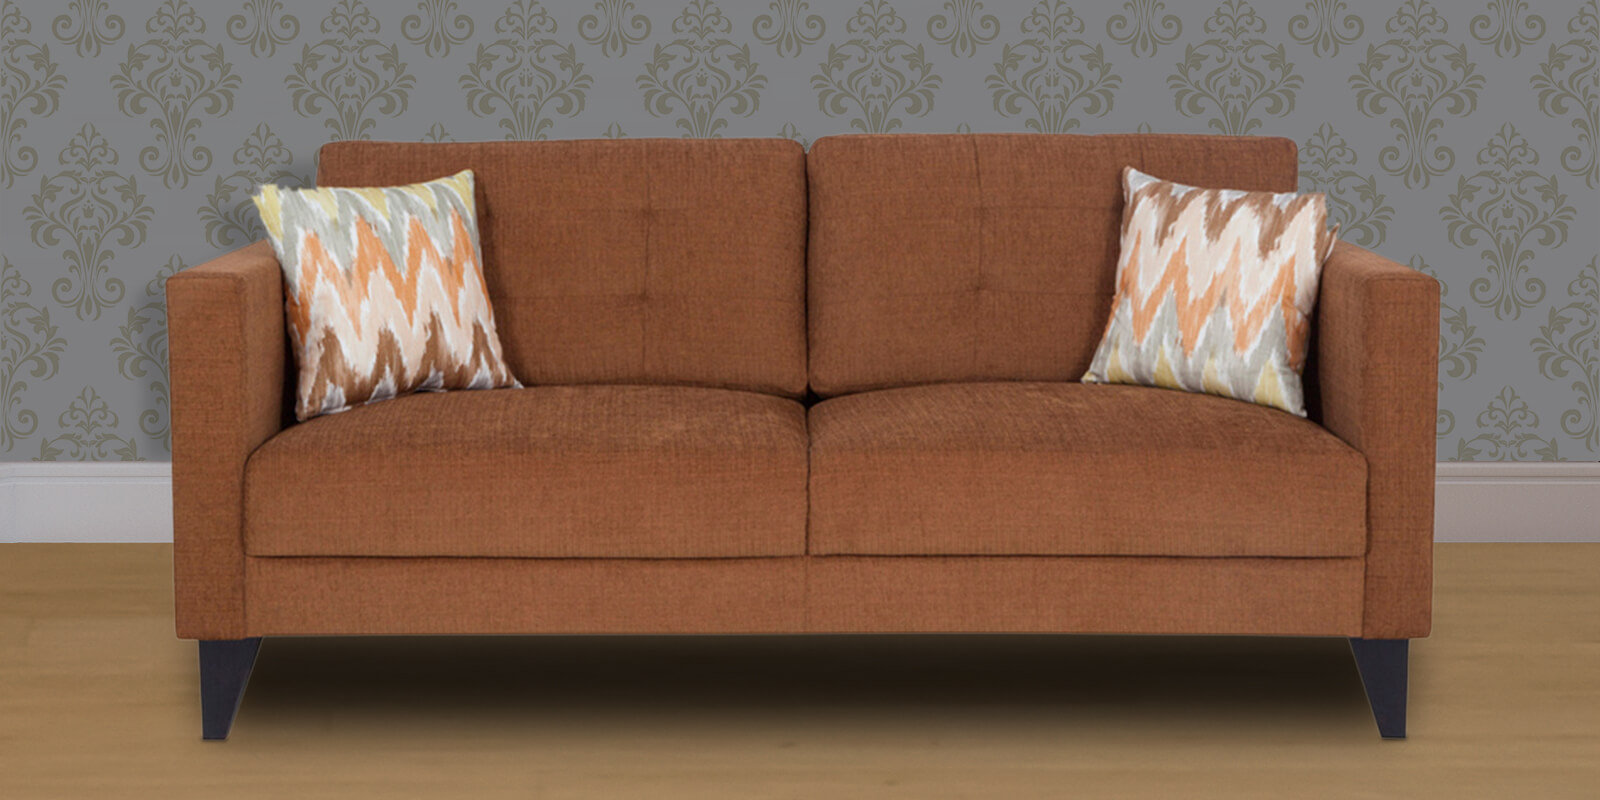Greenwich Three Seater Sofa in Caramel Brown Colour by Urban Living: (153, 132, 1458, 769)
